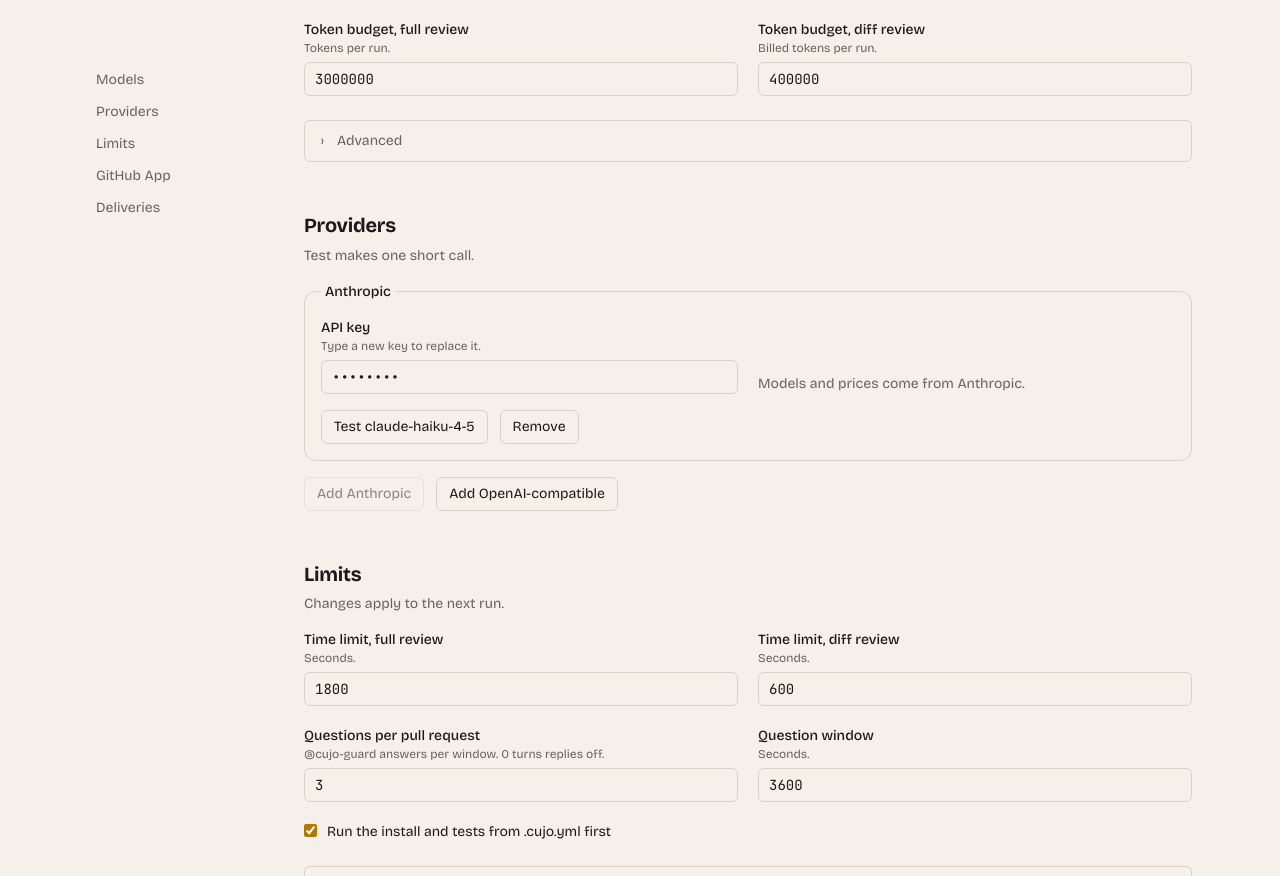
Test case: SettingsView (decision 175) › tests what is typed and says whether it works
(page scrolled)
Click the button "Test claude-haiku-4-5". click: (404, 426)
box: x1=321 y1=410 x2=488 y2=444
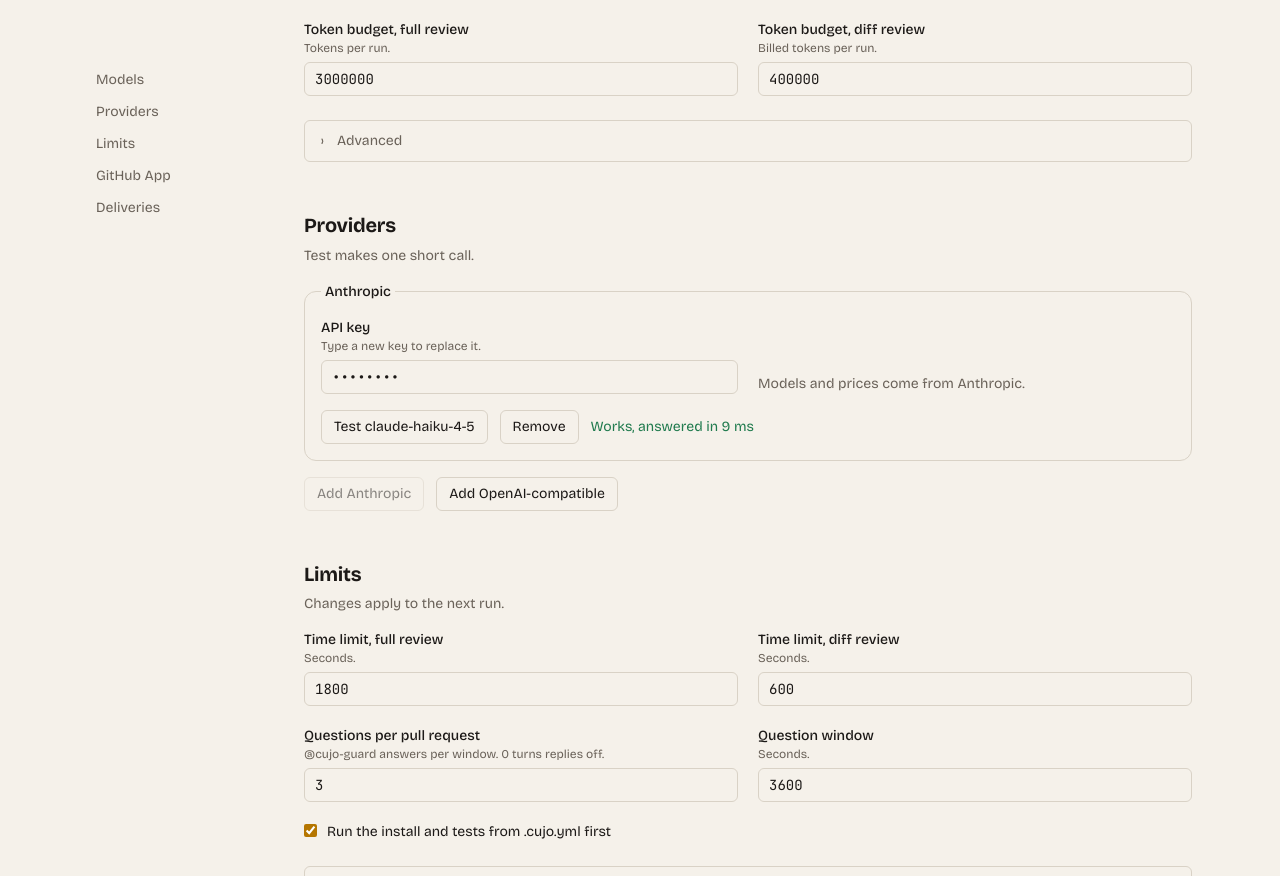
Now the text "Works, answered in 9 ms" is shown, box x1=591 y1=416 x2=754 y2=436
